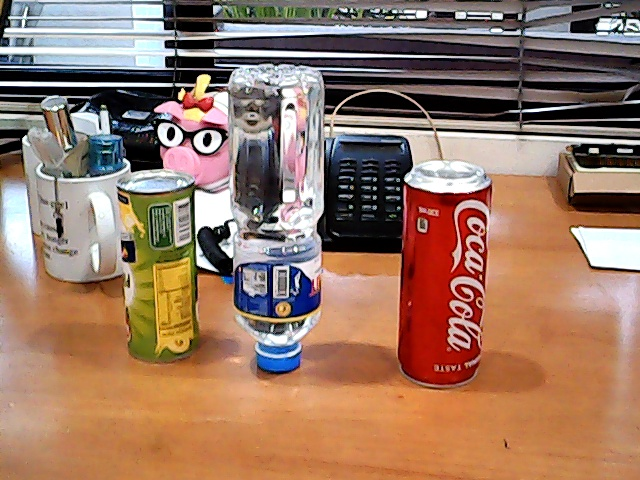Cola: (375, 144, 509, 404)
Pine Juice: (100, 157, 223, 377)
Summit Water: (214, 48, 341, 385)
